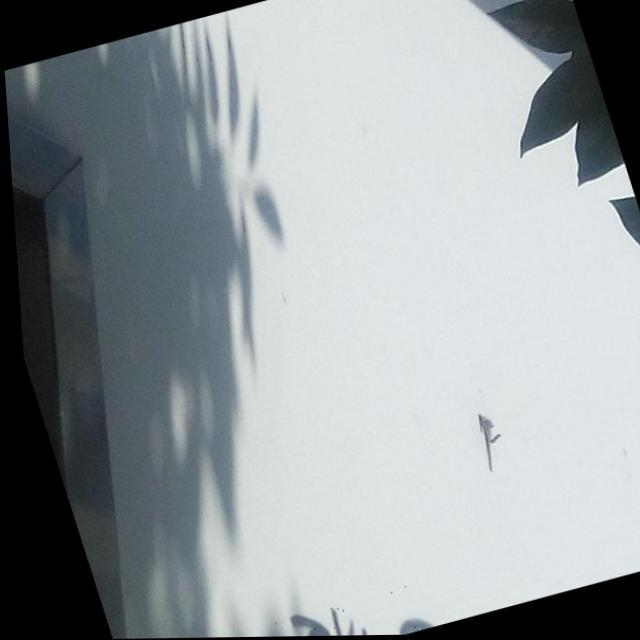-: (244, 569, 464, 638)
